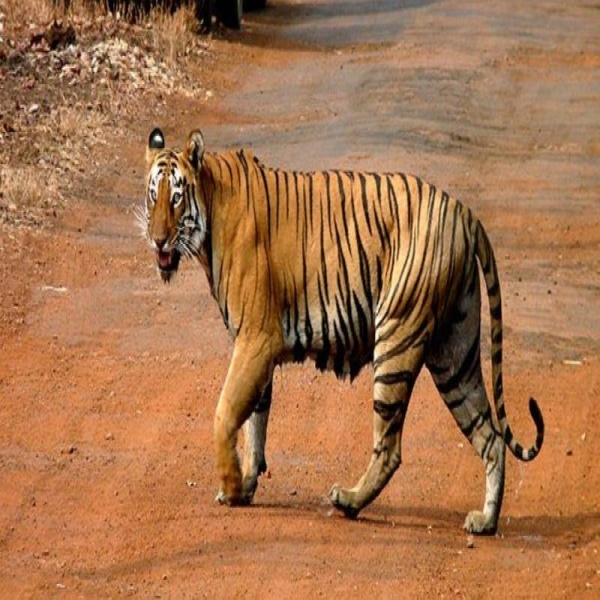Tiger: (136, 126, 549, 538)
